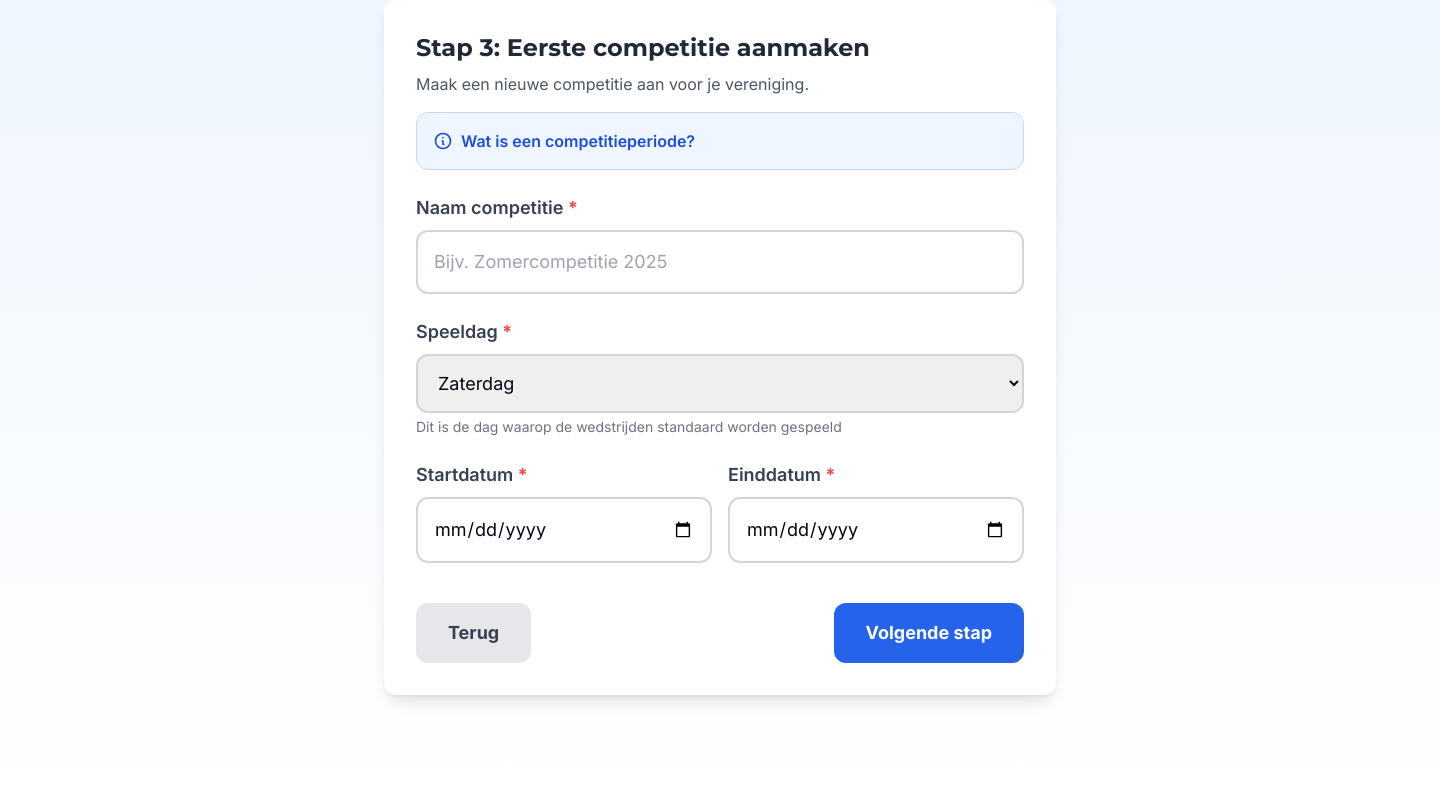
Test: CompetitionStep › Zod validation (onBlur) › should show error for empty end date
Click the date field labelled "Einddatum *". click: (876, 530)
box: [728,497,1024,563]
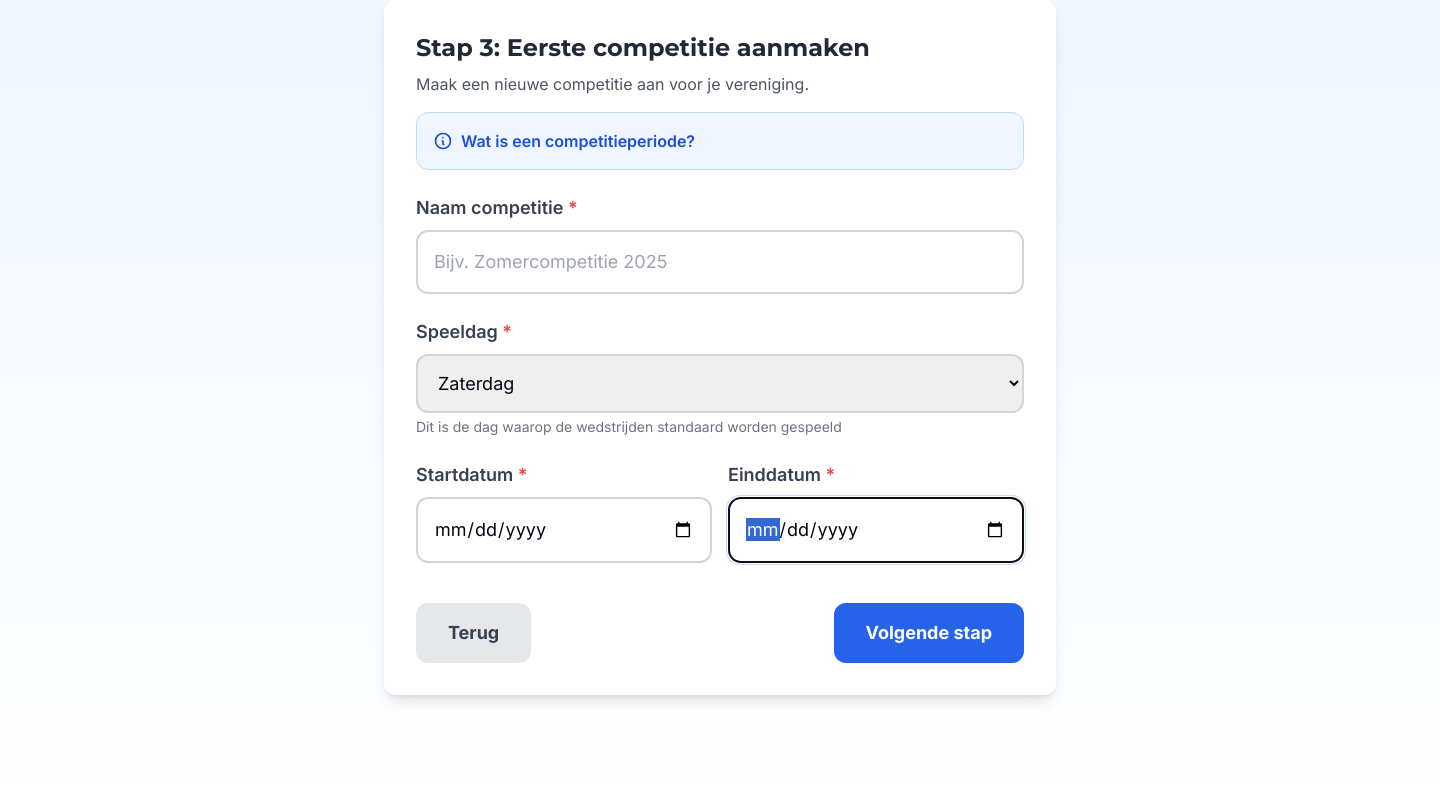
Press Tab
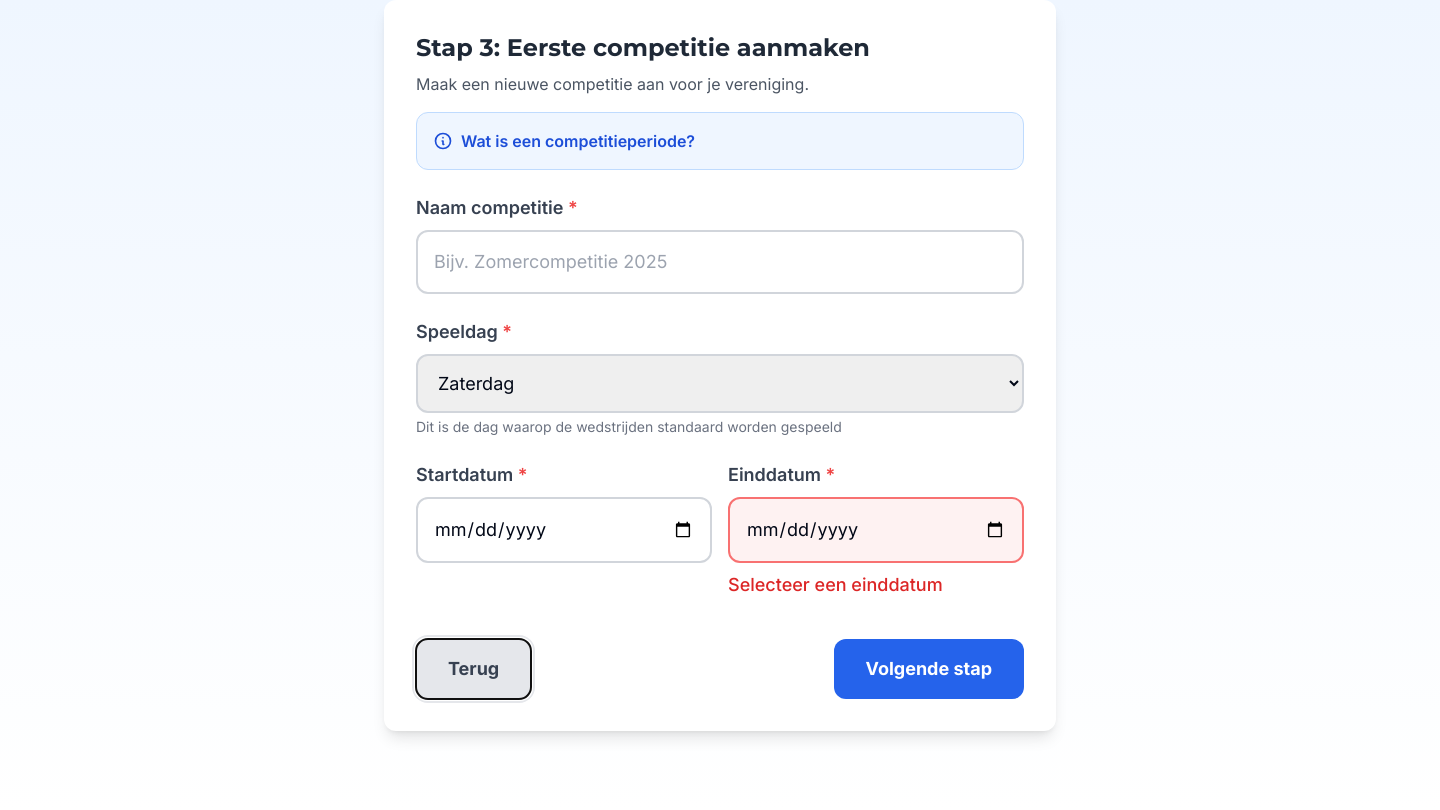
expect the text "Selecteer een einddatum" is shown: met, box [728,574,943,595]
